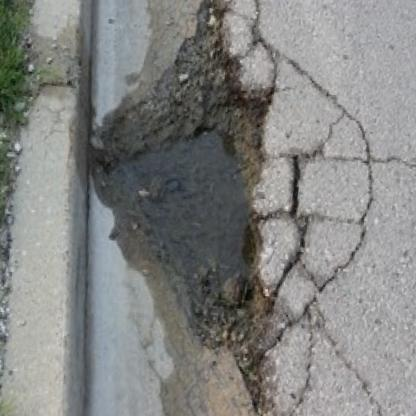pothole: (83, 36, 290, 345)
